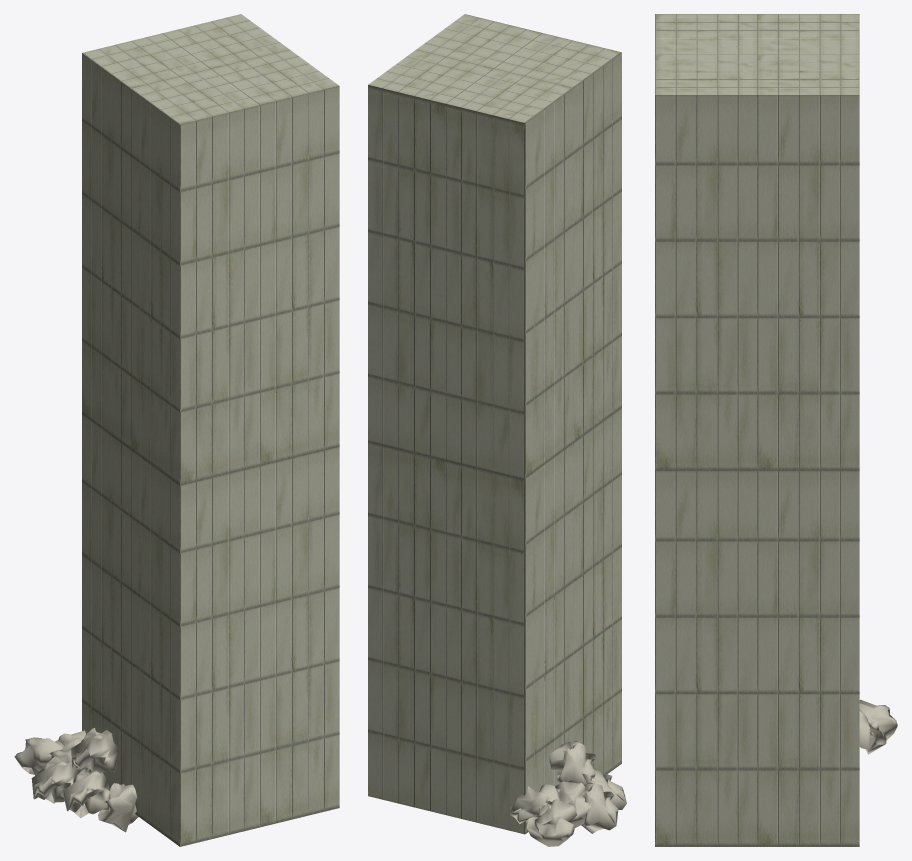
Rendered from pillarB.fbx.
3 renders of one model, left to right at view 1: azimuth 30°, elevation 25°; view 2: azimuth 150°, elevation 25°; view 3: azimuth 270°, elevation 25°, orthographic. The views are drawn at different scales.
Parts seen in each view (by area): view 1: pCube11, pCube44, pCube51, pCube45, pCube46, pCube52; view 2: pCube11, pCube52, pCube51, pCube45, pCube50, pCube49, pCube44; view 3: pCube11, pCube52, pCube50.
Boxes of the visible parts, left/top/right/bottom form: pCube11: left=82, top=14, right=339, bottom=846; pCube44: left=61, top=769, right=110, bottom=818; pCube51: left=71, top=728, right=119, bottom=772; pCube45: left=31, top=756, right=78, bottom=803; pCube46: left=98, top=783, right=138, bottom=832; pCube52: left=14, top=737, right=63, bottom=775; pCube11: left=368, top=14, right=621, bottom=834; pCube52: left=526, top=799, right=577, bottom=846; pCube51: left=549, top=741, right=596, bottom=784; pCube45: left=578, top=782, right=618, bottom=833; pCube50: left=509, top=784, right=559, bottom=823; pCube49: left=555, top=781, right=591, bottom=827; pCube44: left=590, top=770, right=626, bottom=809; pCube11: left=655, top=14, right=859, bottom=846; pCube52: left=859, top=699, right=897, bottom=754; pCube50: left=859, top=709, right=876, bottom=751.
Bounding box in the file's own units: 30.46 × 93.18 × 26.75.
Materials: 2 (1 with a texture image).
